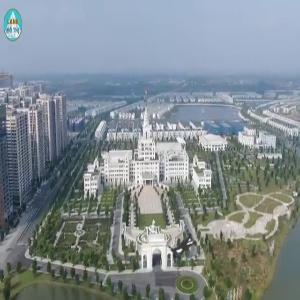drone: (143, 201, 234, 292)
